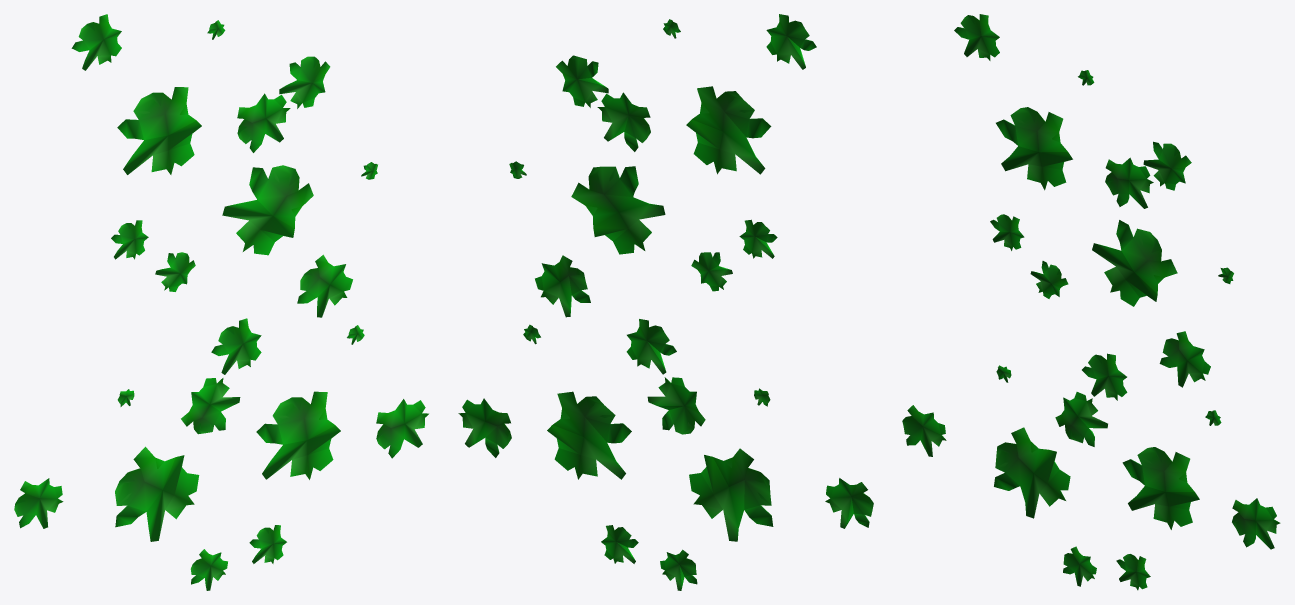
The model's file is weed.fbx.
3 views of the same model, side by side, from view 1: azimuth 30°, elevation 25°; view 2: azimuth 150°, elevation 25°; view 3: azimuth 330°, elevation 25° (orthographic). The views are drawn at different scales.
Parts seen in each view (by area): view 1: weed; view 2: weed; view 3: weed.
Part boxes in pixels (x1,y1,x2,y2): weed: (14,14,428,590); weed: (458,14,873,590); weed: (902,14,1280,590).
Bounding box in the file's own units: 2.11 × 2.93 × 0.0312.
